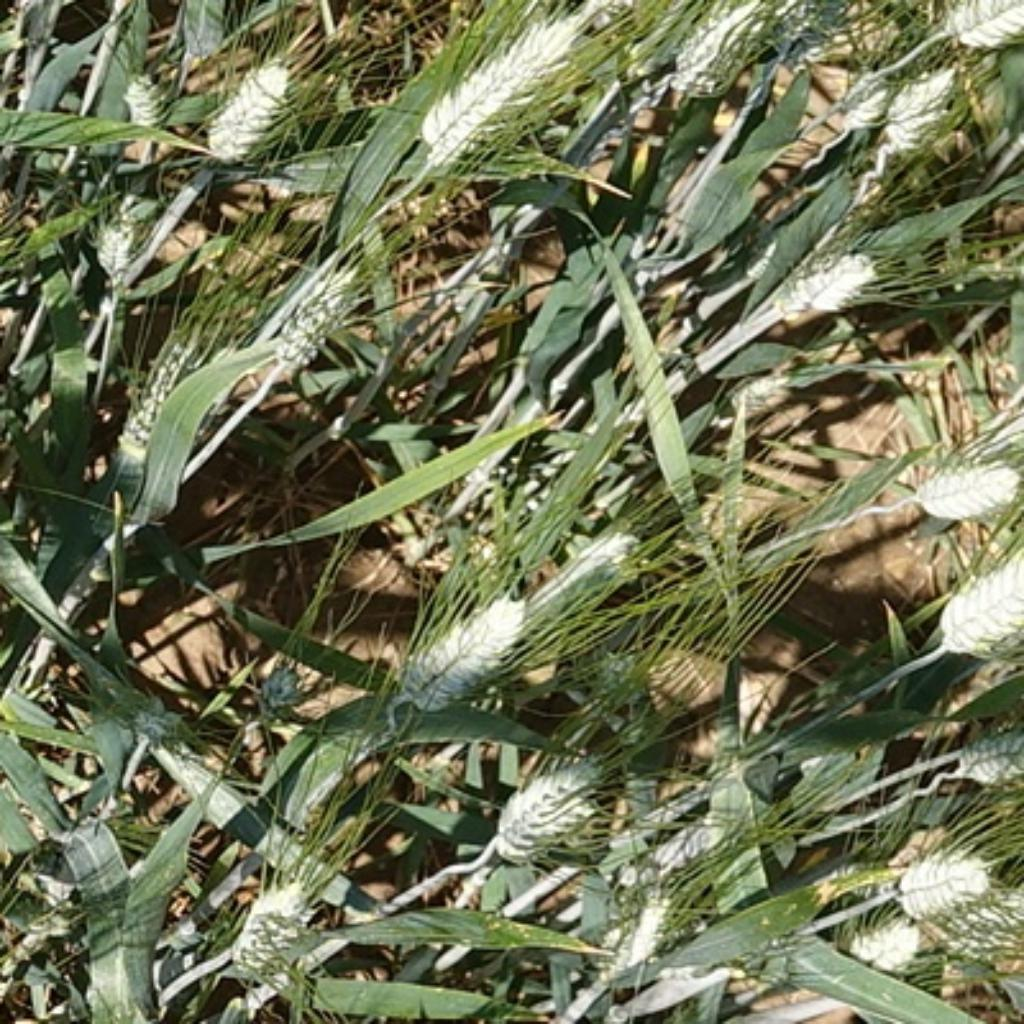0-0: (396, 5, 606, 168), (650, 2, 847, 94), (400, 578, 543, 704), (583, 819, 698, 970), (99, 307, 204, 468), (478, 739, 606, 862), (215, 862, 325, 990), (266, 263, 376, 386), (862, 56, 975, 168), (192, 48, 295, 168), (921, 535, 1021, 657), (911, 445, 1024, 540), (763, 241, 886, 325), (894, 848, 1004, 927), (816, 906, 921, 988), (934, 885, 1024, 972), (76, 186, 153, 279), (122, 667, 197, 755), (951, 724, 1024, 803), (929, 0, 1024, 53), (245, 657, 309, 726), (834, 81, 896, 143), (112, 58, 171, 122)
